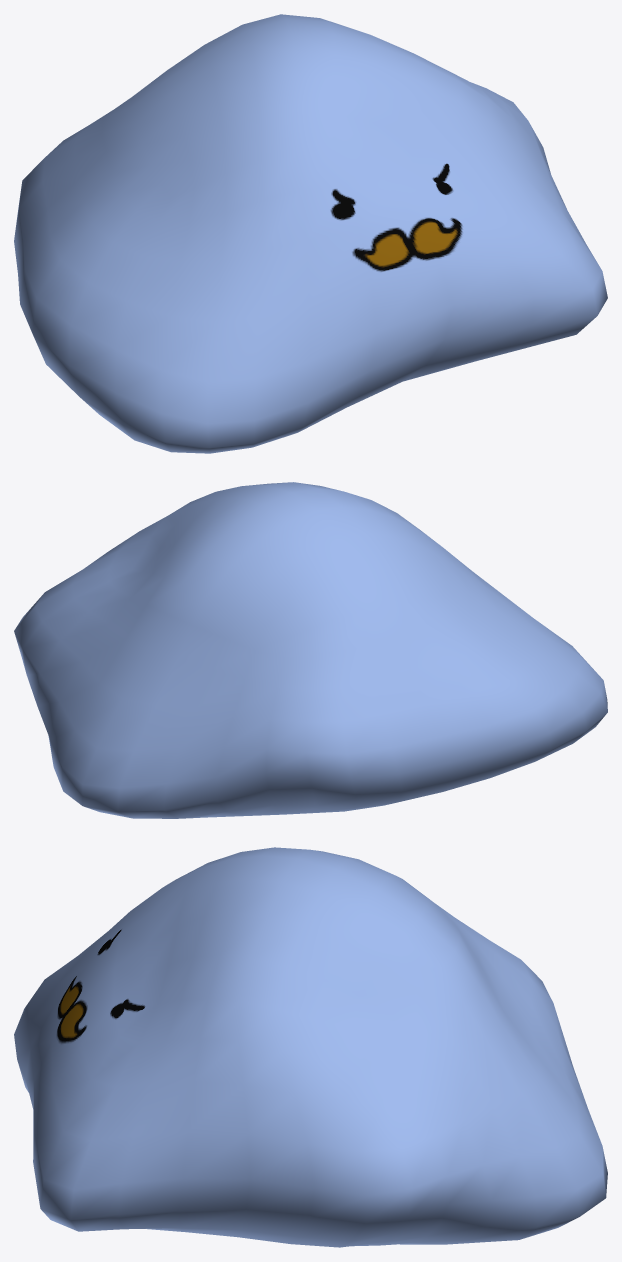
The model's file is SlimeA.fbx.
3 renders of one model, top to bottom at view 1: azimuth 30°, elevation 25°; view 2: azimuth 150°, elevation 25°; view 3: azimuth 270°, elevation 25°, orthographic. The views are drawn at different scales.
Visible parts, largest first — view 1: pCube1; view 2: pCube1; view 3: pCube1.
Boxes of the visible parts, left/top/right/bottom form: pCube1: left=14, top=14, right=607, bottom=453; pCube1: left=14, top=482, right=607, bottom=818; pCube1: left=14, top=847, right=607, bottom=1247.
Size of the model in its own units: 230 by 121 by 202.
